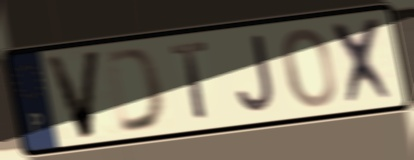D: (103, 44, 168, 136)
J: (234, 31, 277, 117)
O: (280, 25, 339, 112)
T: (167, 38, 211, 124)
V: (41, 47, 105, 143)
X: (328, 13, 400, 109)
